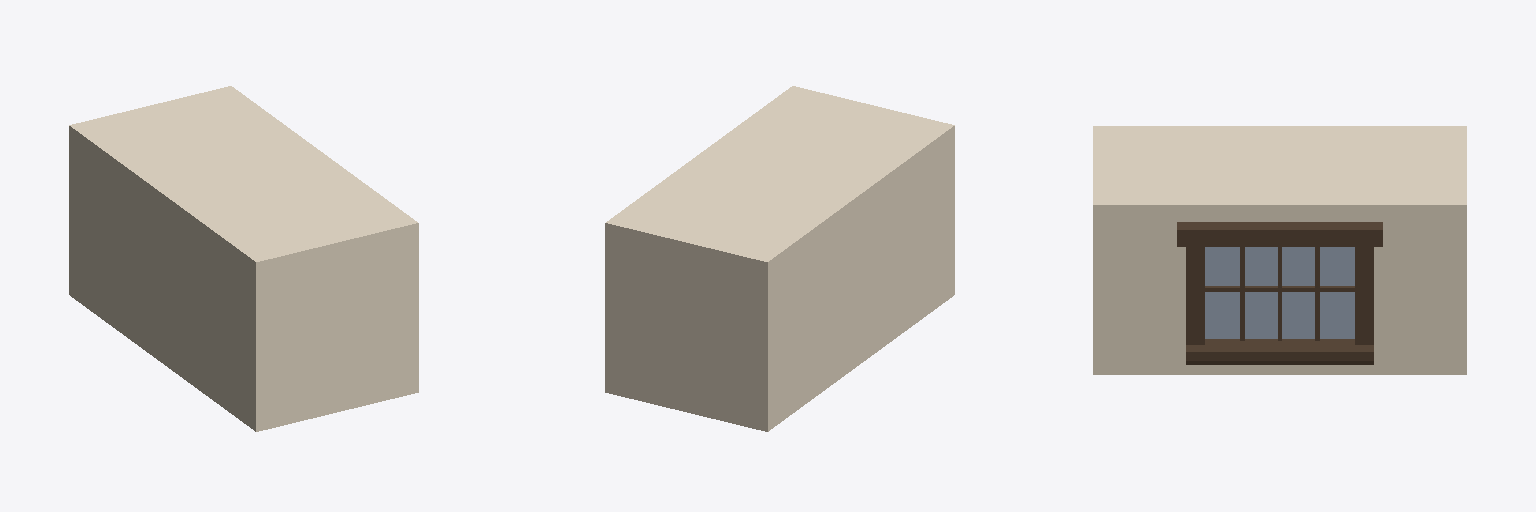
File: Stucco_Window_Double_Wide.obj
3 renders of one model, left to right at view 1: azimuth 30°, elevation 25°; view 2: azimuth 150°, elevation 25°; view 3: azimuth 270°, elevation 25°, orthographic.
Parts seen in each view (by area): view 1: object1; view 2: object1; view 3: object1, object2, object3.
Boxes of the visible parts, box(x1,y1,x2,y2) form: object1: box(69, 86, 418, 431); object1: box(605, 86, 954, 431); object1: box(1093, 126, 1466, 374); object2: box(1177, 222, 1382, 364); object3: box(1205, 247, 1354, 340).
Size of the model in its own units: 1.15 by 1 by 2.